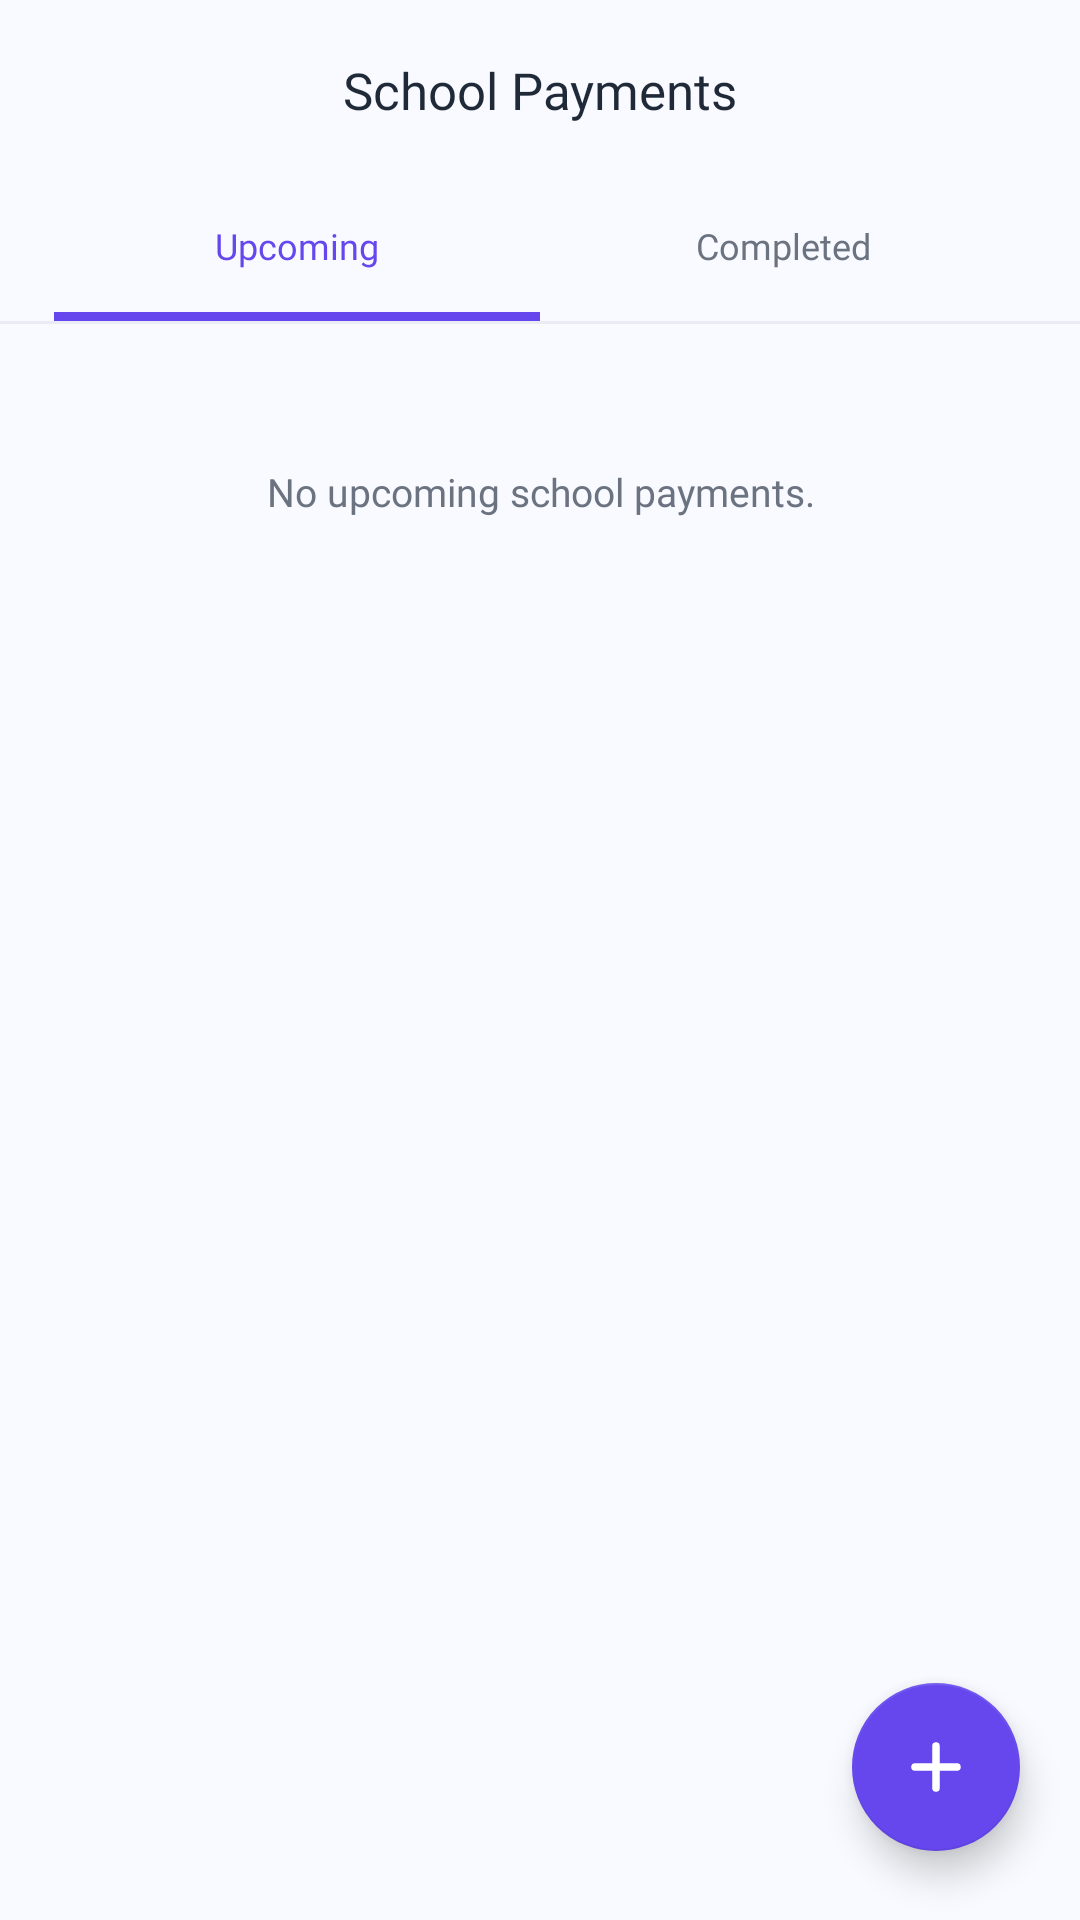

Icon bounding boxes for this 1080px×1920px phone screenshot, format rect(x1, y1, x2, y2):
Add school payment: rect(852, 1683, 1020, 1851)
